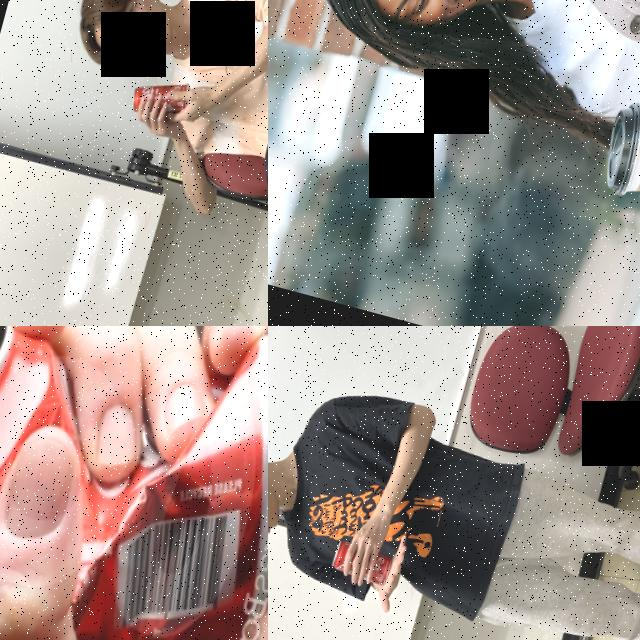can: (128, 68, 193, 124), (329, 536, 395, 587)
cup: (595, 99, 640, 215)
